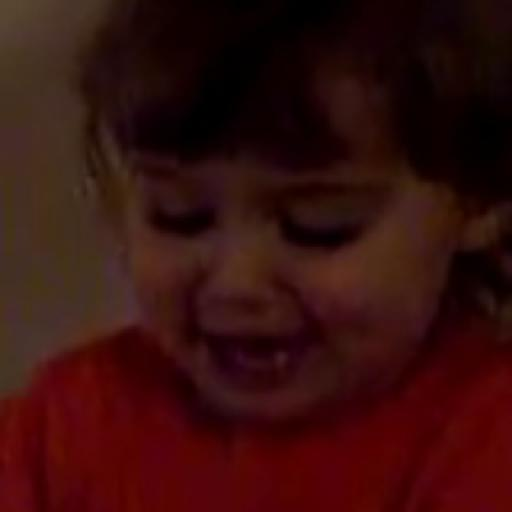Autism: (84, 44, 512, 430)
